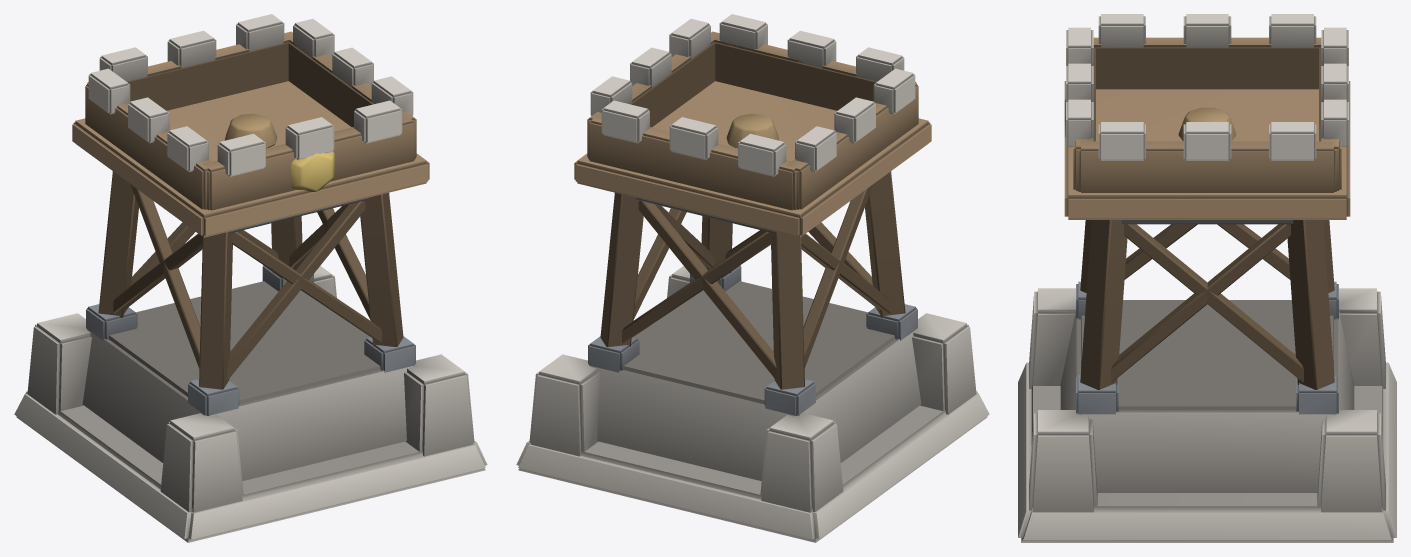
File: quill_archer_spire_lod0.glb
3 views of the same model, side by side, from view 1: azimuth 30°, elevation 25°; view 2: azimuth 150°, elevation 25°; view 3: azimuth 270°, elevation 25° (orthographic). The views are drawn at different scales.
Visible parts, largest first — view 1: quill_archer_spire; view 2: quill_archer_spire; view 3: quill_archer_spire.
Part boxes in pixels (x1=…): quill_archer_spire: x1=14, y1=14, x2=487, y2=542; quill_archer_spire: x1=516, y1=14, x2=989, y2=542; quill_archer_spire: x1=1018, y1=14, x2=1396, y2=542.
Size of the model in its own units: 3.03 by 3.45 by 3.03.
